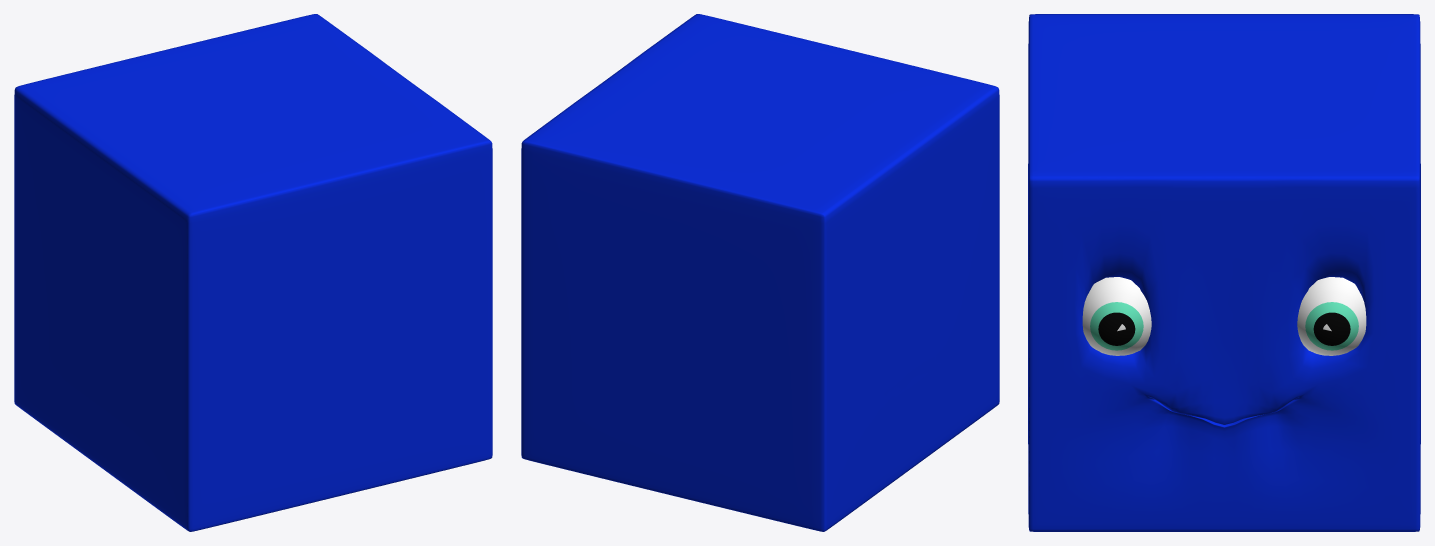
The model's file is КУБИК2.glb.
3 renders of one model, left to right at view 1: azimuth 30°, elevation 25°; view 2: azimuth 150°, elevation 25°; view 3: azimuth 270°, elevation 25°, orthographic. The views are drawn at different scales.
Visible parts, largest first — view 1: Cube; view 2: Cube; view 3: Cube, Sphere.
Boxes of the visible parts, left/top/right/bottom form: Cube: left=14, top=14, right=492, bottom=531; Cube: left=521, top=14, right=999, bottom=531; Cube: left=1028, top=14, right=1420, bottom=531; Sphere: left=1082, top=277, right=1366, bottom=355.
Bounding box in the file's own units: 2.09 × 2 × 2.
